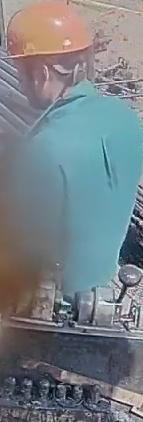helmet: (4, 0, 93, 58)
vest: (16, 80, 142, 300)
